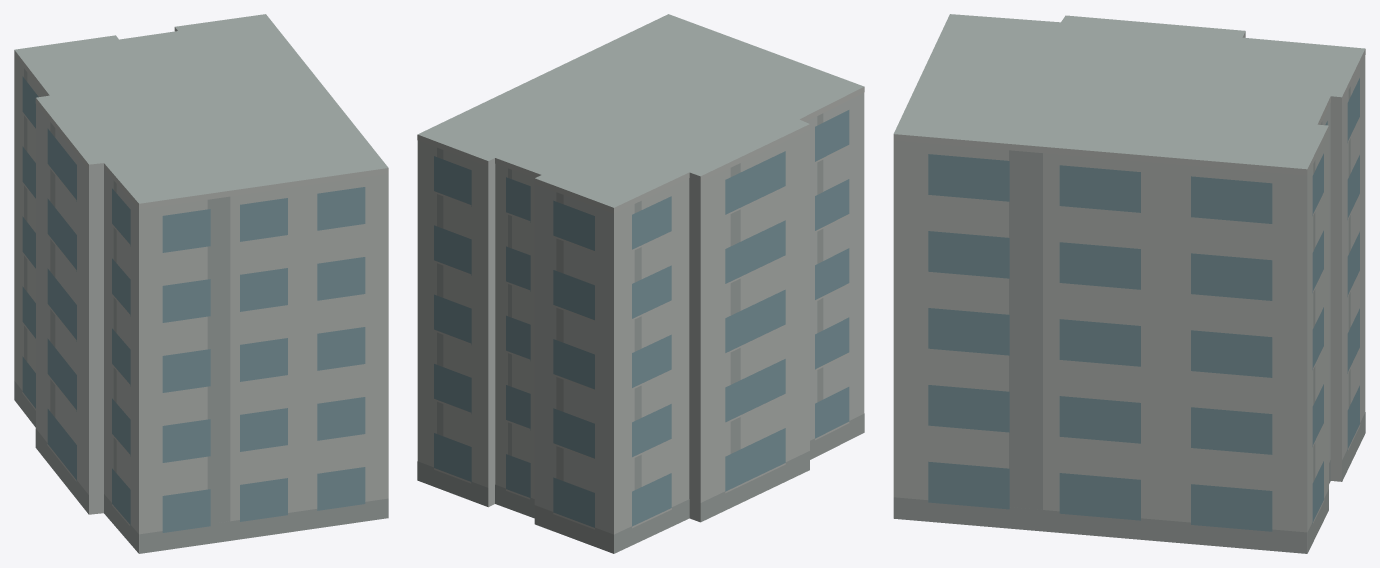
Rendered from survey-upis-32881832.glb.
3 views of the same model, side by side, from view 1: azimuth 30°, elevation 25°; view 2: azimuth 150°, elevation 25°; view 3: azimuth 270°, elevation 25° (orthographic). The views are drawn at different scales.
Parts seen in each view (by area): view 1: survey-upis-32881832.tmp; view 2: survey-upis-32881832.tmp; view 3: survey-upis-32881832.tmp.
Boxes of the visible parts, x1,y1,x2,y2 form: survey-upis-32881832.tmp: [14, 14, 388, 553]; survey-upis-32881832.tmp: [417, 14, 864, 553]; survey-upis-32881832.tmp: [893, 14, 1365, 553].
Bounding box in the file's own units: 12.65 × 14.6 × 16.25.
